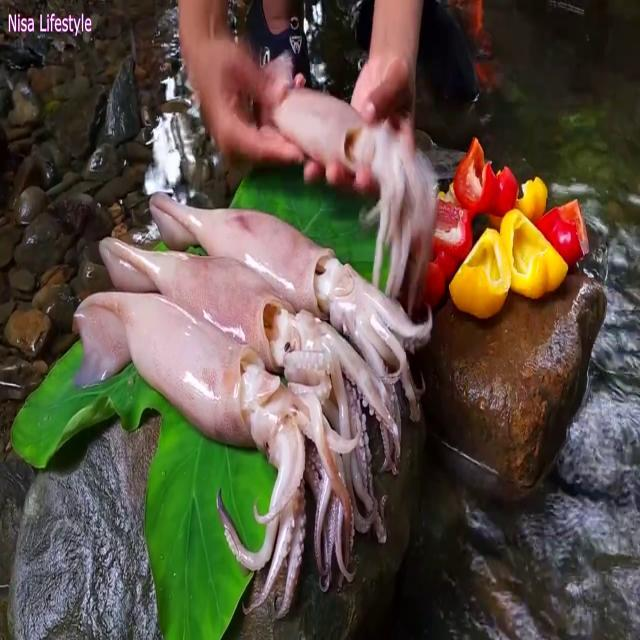squid: (100, 234, 398, 594), (73, 286, 346, 627), (149, 191, 433, 473), (263, 49, 435, 307)
